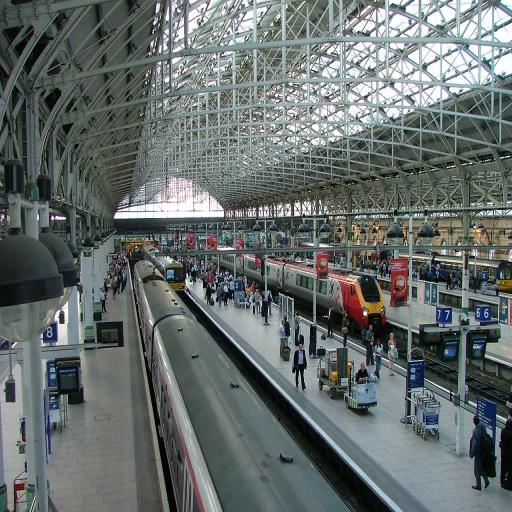platform_edge: (117, 316, 176, 512), (332, 458, 435, 512), (271, 390, 331, 428), (222, 334, 278, 372)
